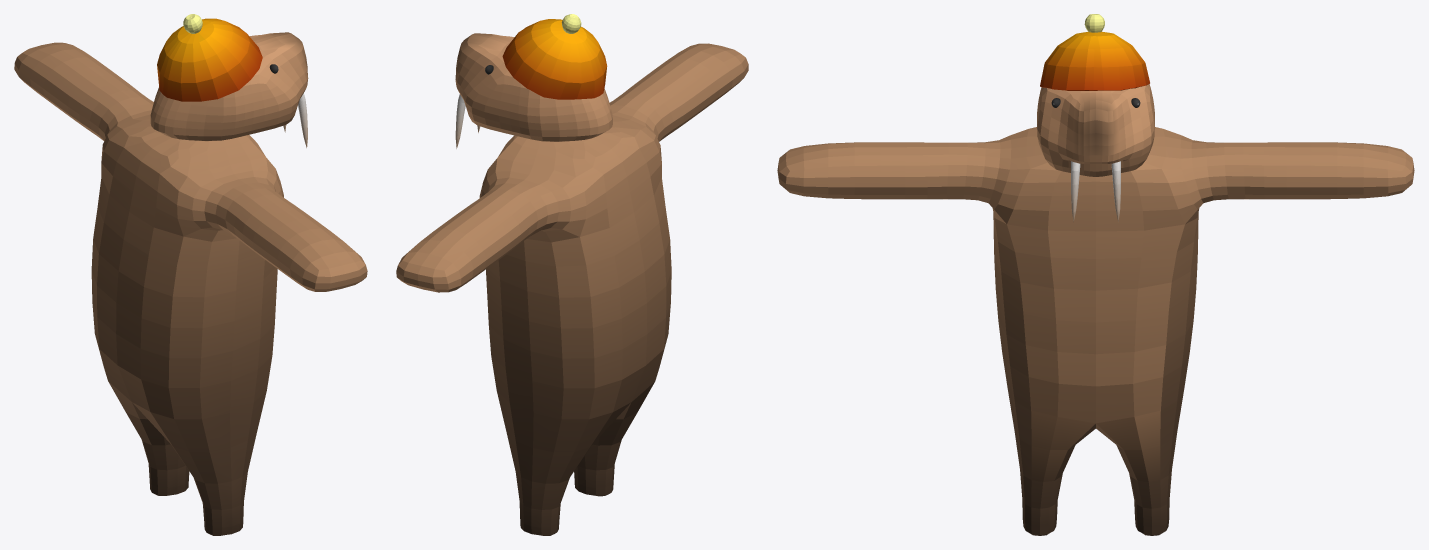
File: Momo.fbx
3 renders of one model, left to right at view 1: azimuth 30°, elevation 25°; view 2: azimuth 150°, elevation 25°; view 3: azimuth 270°, elevation 25°, orthographic. The views are drawn at different scales.
Parts seen in each view (by area): view 1: Cube, Sphere.001; view 2: Cube, Sphere.001; view 3: Cube, Sphere.001, Cone.
Boxes of the visible parts, left/top/right/bottom form: Cube: left=14, top=32, right=367, bottom=535; Sphere.001: left=157, top=14, right=262, bottom=101; Cube: left=396, top=33, right=748, bottom=535; Sphere.001: left=502, top=14, right=607, bottom=99; Cube: left=777, top=84, right=1414, bottom=535; Sphere.001: left=1040, top=14, right=1149, bottom=90; Cone: left=1071, top=161, right=1120, bottom=221.
Size of the model in its own units: 59.2 by 151 by 170.
4 materials, 4 textured.
